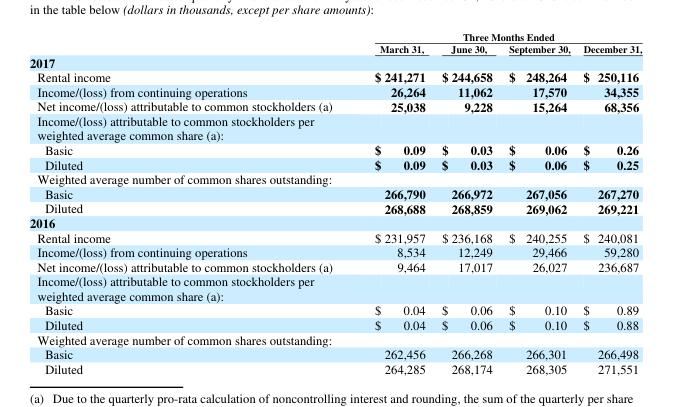table: (29, 29, 641, 376)
table column: (29, 29, 353, 376), (353, 29, 433, 376), (500, 29, 576, 376), (433, 29, 500, 376), (576, 29, 641, 376)
table column header: (29, 29, 641, 54)
table projected row header: (29, 273, 641, 302), (29, 113, 641, 141), (29, 54, 641, 69), (29, 331, 641, 346), (29, 171, 641, 185), (29, 215, 641, 229)
table row: (29, 273, 641, 302), (29, 113, 641, 141), (29, 360, 641, 376), (29, 54, 641, 69), (29, 69, 641, 84), (29, 98, 641, 113), (29, 141, 641, 156), (29, 156, 641, 171), (29, 185, 641, 200), (29, 200, 641, 215), (29, 229, 641, 244), (29, 258, 641, 273), (29, 316, 641, 331), (29, 331, 641, 346), (29, 84, 641, 98), (29, 171, 641, 185), (29, 215, 641, 229), (29, 244, 641, 258), (29, 302, 641, 316), (29, 346, 641, 360), (29, 29, 641, 42), (29, 42, 641, 54)
table spanning cell: (353, 29, 641, 42)
